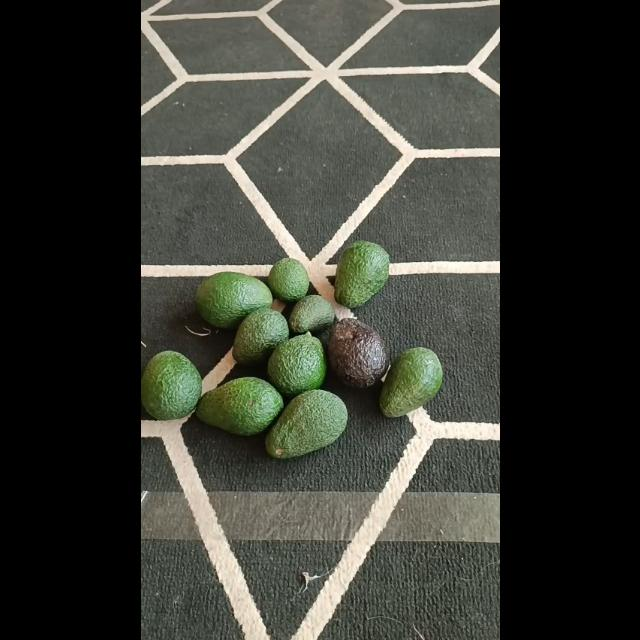Segunda: (232, 308, 288, 366)
